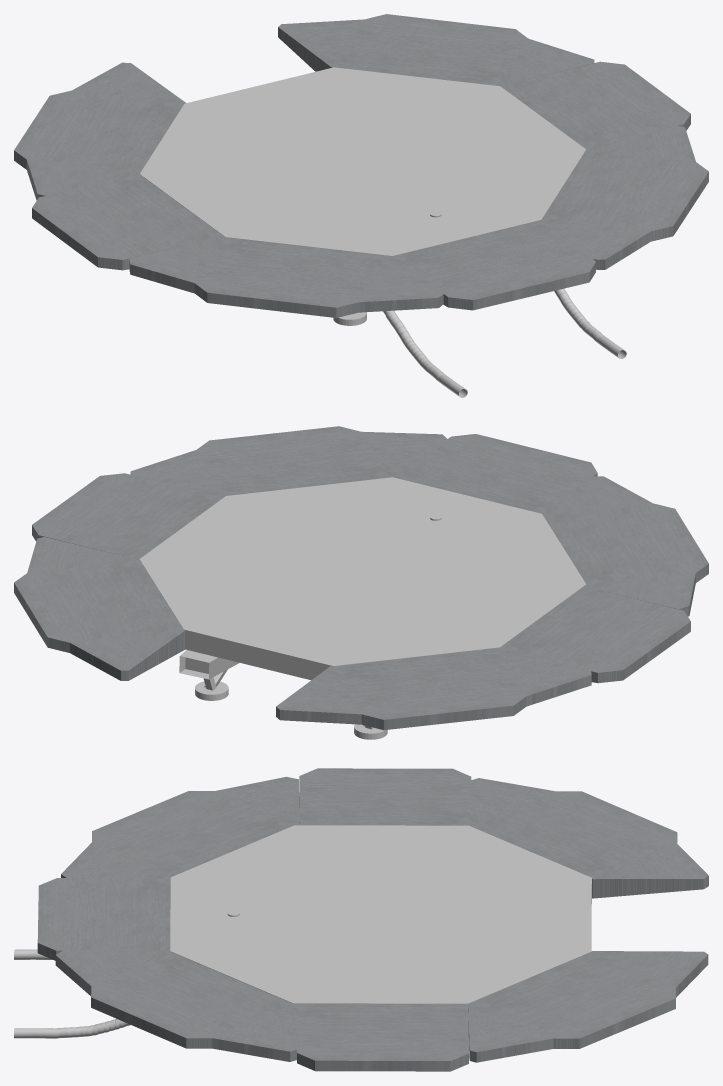
The model's file is spaceport.obj.
The picture shows the model from 3 angles, top to bottom: view 1: azimuth 30°, elevation 25°; view 2: azimuth 150°, elevation 25°; view 3: azimuth 270°, elevation 25°; orthographic projection.
Parts seen in each view (by area): view 1: Cylinder.021, Plane.003, Plane.004, Plane.002, Plane.005, Plane.001, Plane.007, Plane.006, Plane.012, Plane.011, Plane.013, Plane.008 (+5 smaller); view 2: Cylinder.021, Plane.001, Plane.002, Plane.007, Plane.006, Plane.003, Plane.005, Plane.004, Plane.008, Plane.009, Plane.010, Plane.011 (+5 smaller); view 3: Cylinder.021, Plane.006, Plane.007, Plane.005, Plane.001, Plane.002, Plane.004, Plane.003, Plane.009, Plane.015, Plane.014, Plane.013 (+5 smaller).
Boxes of the visible parts, bbox=[...] form: Cylinder.021: bbox=[140, 67, 586, 256]; Plane.003: bbox=[194, 237, 386, 317]; Plane.004: bbox=[394, 220, 595, 310]; Plane.002: bbox=[32, 173, 222, 270]; Plane.005: bbox=[543, 150, 708, 241]; Plane.001: bbox=[14, 90, 183, 172]; Plane.007: bbox=[335, 14, 527, 85]; Plane.006: bbox=[501, 61, 690, 147]; Plane.012: bbox=[358, 256, 443, 312]; Plane.011: bbox=[129, 235, 225, 293]; Plane.013: bbox=[539, 218, 650, 269]; Plane.008: bbox=[278, 19, 363, 71]; Cylinder.021: bbox=[139, 477, 586, 680]; Plane.001: bbox=[333, 648, 526, 730]; Plane.002: bbox=[498, 586, 690, 683]; Plane.007: bbox=[14, 561, 183, 652]; Plane.006: bbox=[32, 473, 222, 559]; Plane.003: bbox=[543, 503, 708, 584]; Plane.005: bbox=[197, 426, 388, 495]; Plane.004: bbox=[395, 434, 597, 513]; Plane.008: bbox=[70, 629, 185, 680]; Plane.009: bbox=[276, 666, 361, 724]; Plane.010: bbox=[495, 648, 591, 706]; Plane.011: bbox=[584, 573, 695, 616]; Cylinder.021: bbox=[170, 825, 591, 1003]; Plane.006: bbox=[297, 1003, 468, 1071]; Plane.007: bbox=[471, 952, 675, 1048]; Plane.005: bbox=[91, 953, 292, 1048]; Plane.001: bbox=[473, 791, 677, 877]; Plane.002: bbox=[299, 768, 471, 825]; Plane.004: bbox=[37, 878, 170, 960]; Plane.003: bbox=[92, 791, 293, 875]; Plane.009: bbox=[592, 843, 708, 898]; Plane.015: bbox=[468, 1002, 553, 1062]; Plane.014: bbox=[212, 1003, 298, 1061]; Plane.013: bbox=[55, 950, 172, 995].
Bounding box in the file's own units: 40.63 × 5.82 × 40.76.
